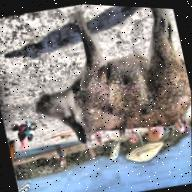boar: (16, 1, 192, 164)
